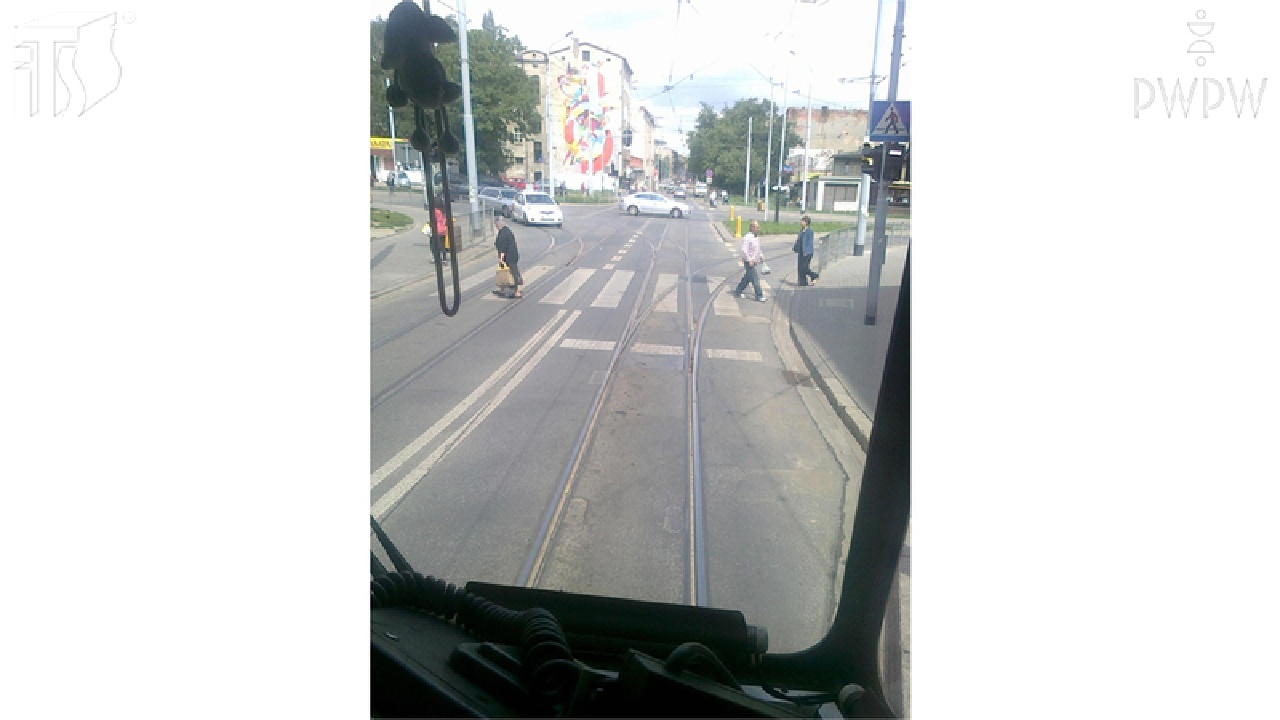D6: (870, 100, 910, 142)
